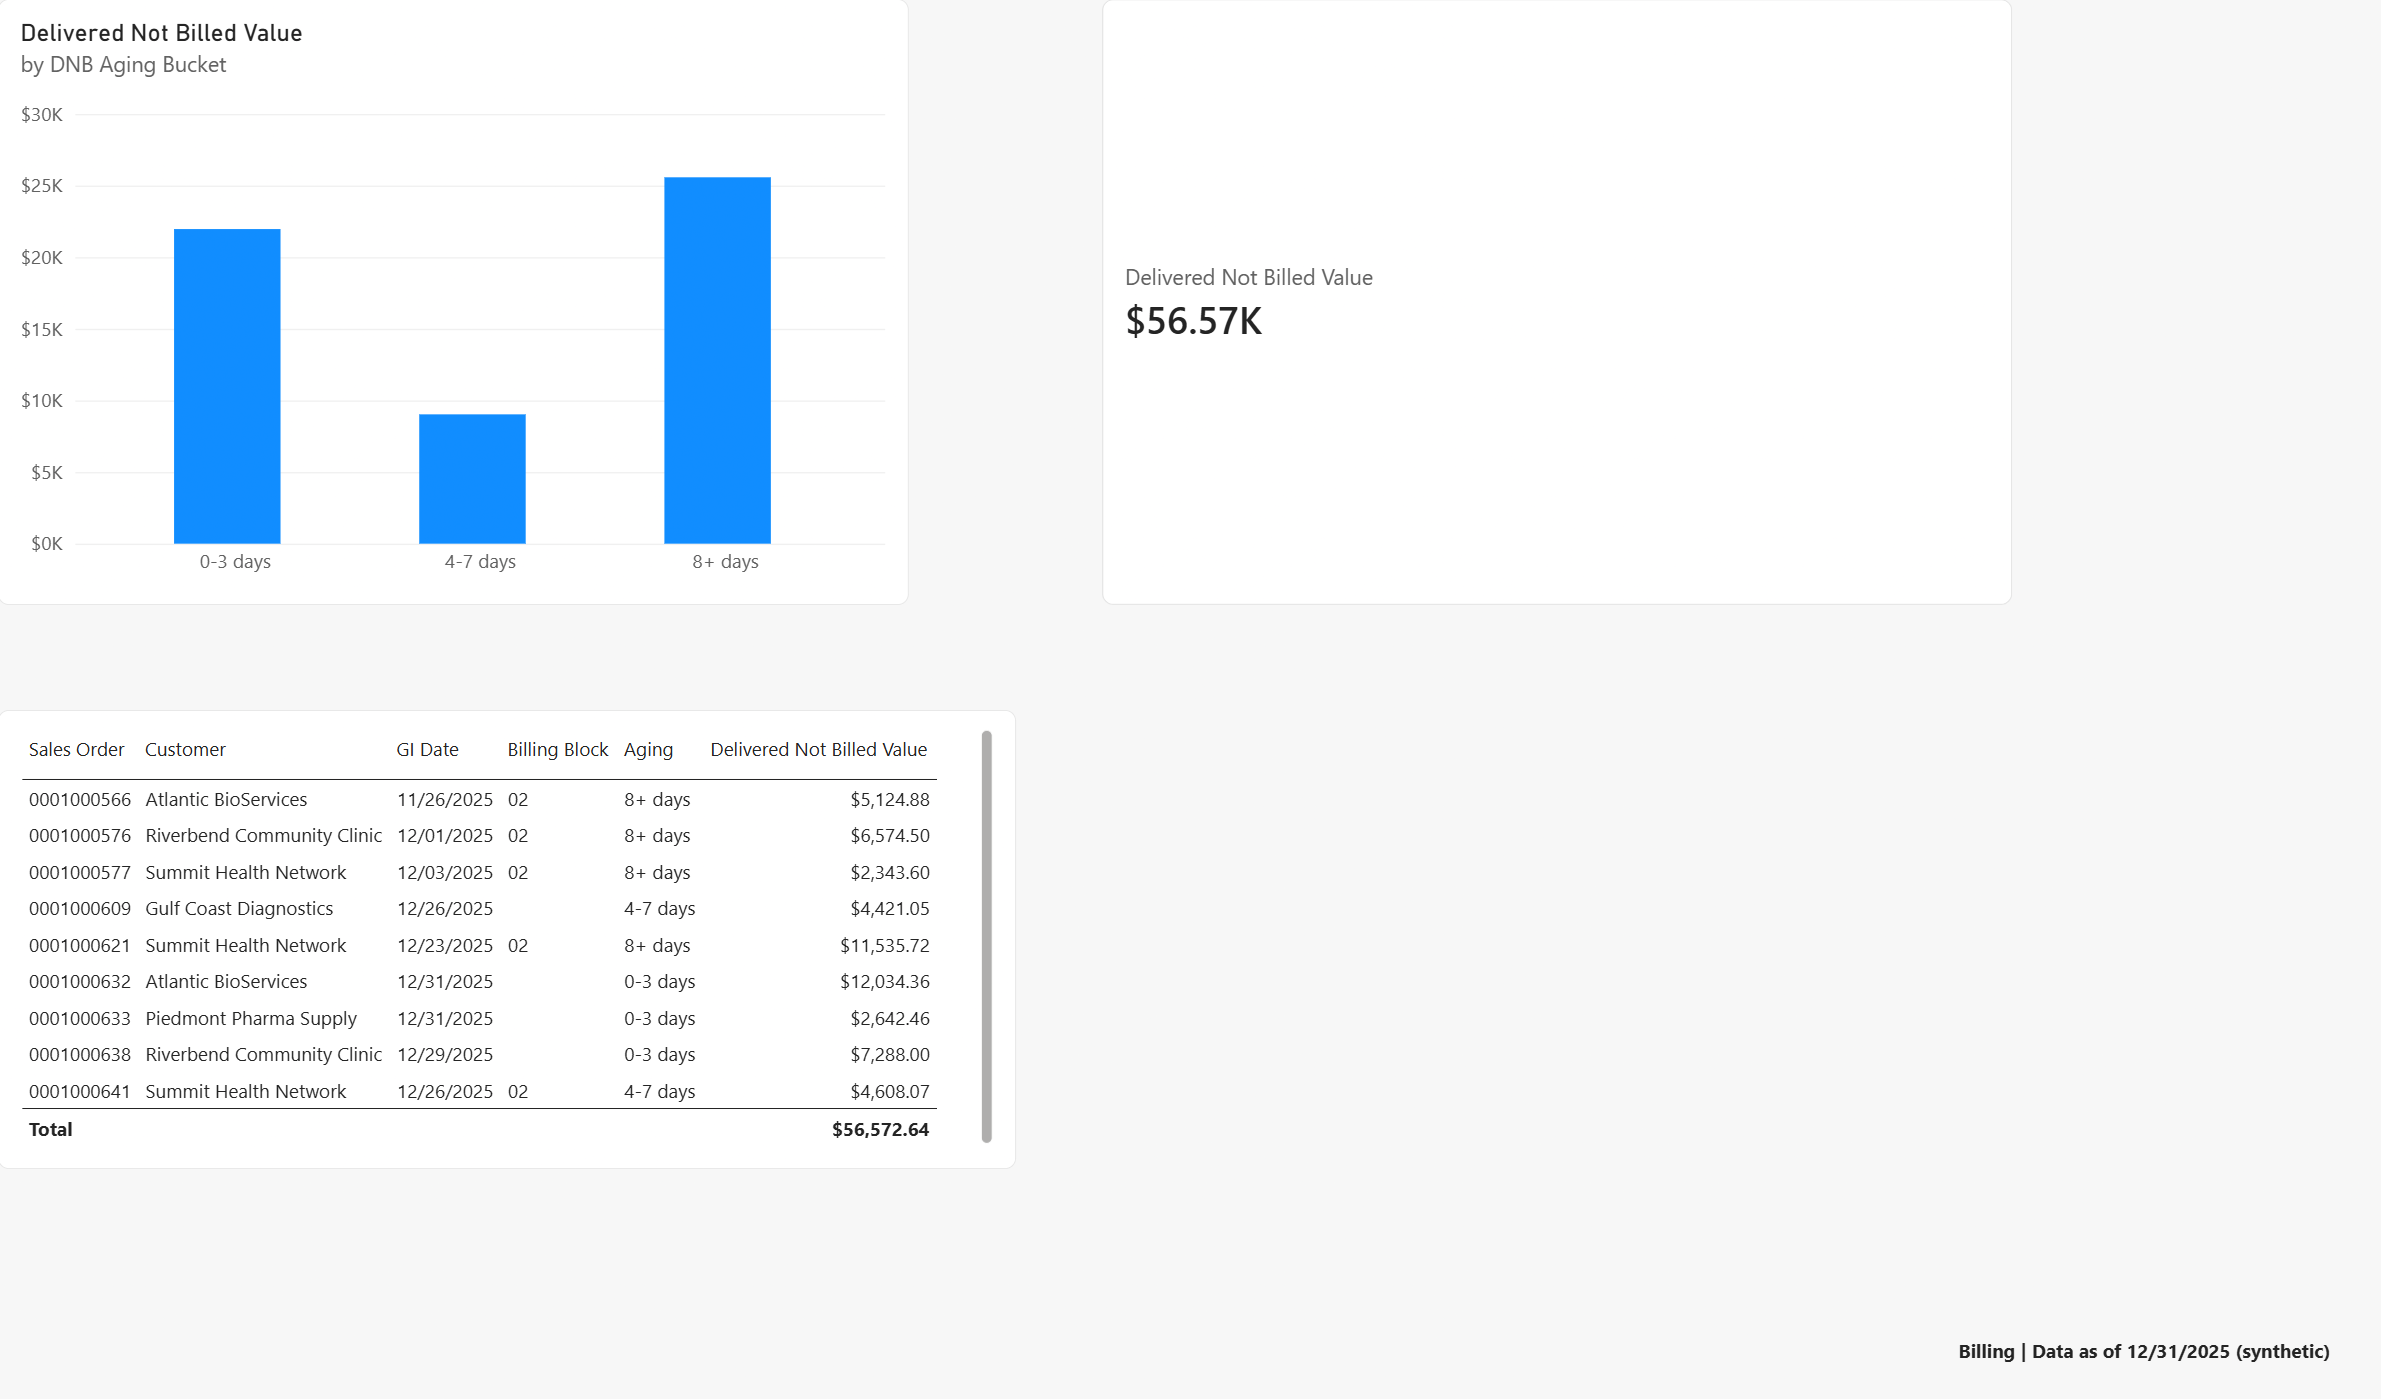

The dashboard page shown, as its layout file describes it:
{"tool":"powerbi","page":{"name":"Billing","canvas":[1920,1080],"ordinal":3},"visuals":[{"type":"clusteredColumnChart","fields":{"Category":["FactItemFlow.DNB Aging Bucket"],"Y":["_Measures.Delivered Not Billed Value"]},"box":[0,0,673.1,448],"z":0},{"type":"cardVisual","fields":{"Data":["_Measures.Delivered Not Billed Value"]},"box":[816.2,0,673,448],"z":1000},{"type":"tableEx","fields":{"Values":["FactItemFlow.SALES_ORDER","DimCustomer.CUSTOMER_NAME","FactItemFlow.GI_DATE","FactItemFlow.BILLING_BLOCK","FactItemFlow.DNB Aging Bucket","_Measures.Delivered Not Billed Value"]},"box":[0,525.7,753,339.3],"z":2000},{"type":"textbox","box":[1449.4,989.2,470.2,90.9],"z":2001}]}

Visuals, with their boxes on the page's 1920x1080 design canvas (x1, y1, x2, y2). These are canvas units, not pixel positions in the 2381x1399 screenshot, which may show the page scaled, cropped or inside an application window:
clusteredColumnChart - FactItemFlow.DNB Aging Bucket x _Measures.Delivered Not Billed Value: bbox=[0, 0, 673, 448]
cardVisual - _Measures.Delivered Not Billed Value: bbox=[816, 0, 1489, 448]
tableEx - FactItemFlow.SALES_ORDER x DimCustomer.CUSTOMER_NAME: bbox=[0, 526, 753, 865]
textbox: bbox=[1449, 989, 1920, 1080]
